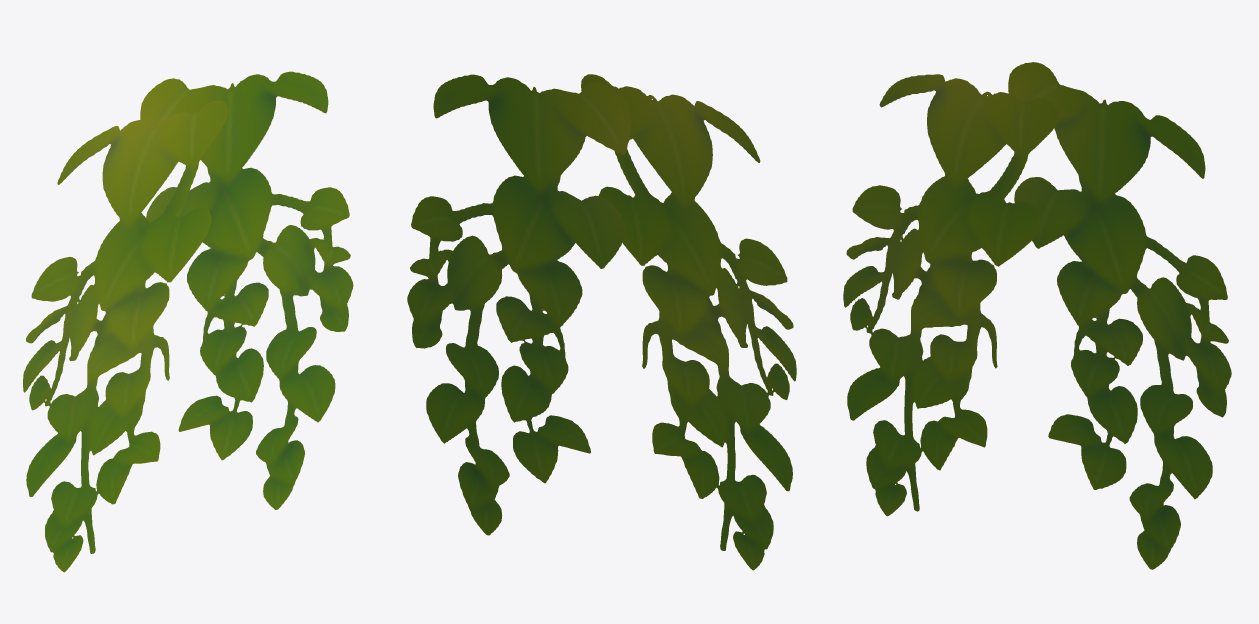
The model's file is Vine02.fbx.
The picture shows the model from 3 angles, left to right: view 1: azimuth 30°, elevation 25°; view 2: azimuth 150°, elevation 25°; view 3: azimuth 330°, elevation 25°; orthographic projection. The views are drawn at different scales.
Parts seen in each view (by area): view 1: Vine.013; view 2: Vine.013; view 3: Vine.013.
Part boxes in pixels (x1,y1,x2,y2): Vine.013: (23, 71, 353, 572); Vine.013: (407, 74, 796, 570); Vine.013: (843, 62, 1231, 569).
Bounding box in the file's own units: 128 × 162 × 11.87.
Materials: 1 (1 with a texture image).
